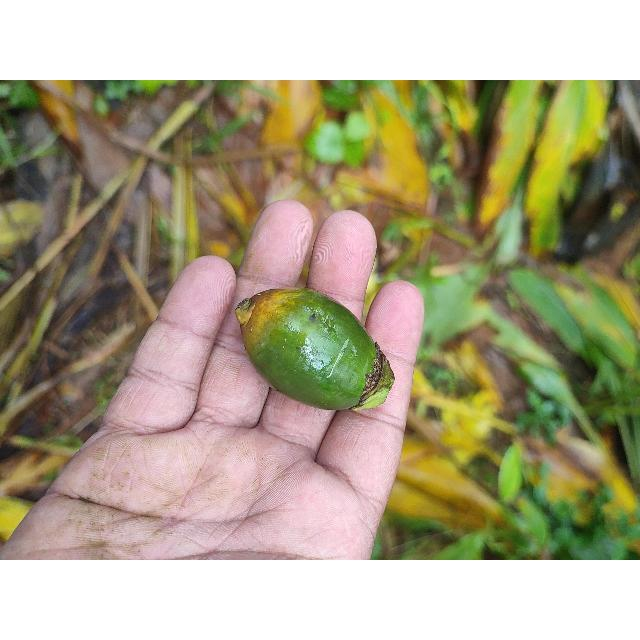good: (233, 288, 394, 412)
